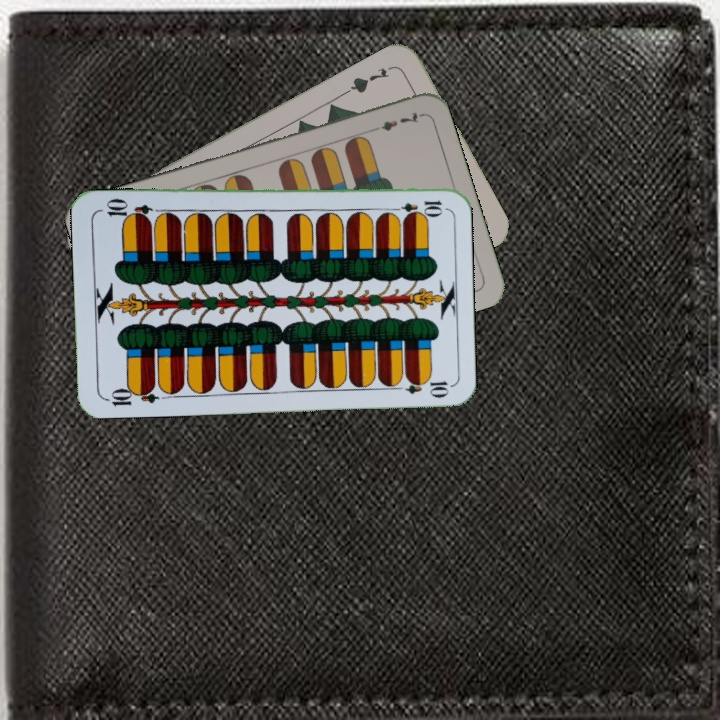E10: (101, 381, 160, 409), (386, 196, 445, 216)
E7: (366, 108, 424, 135)
G7: (342, 61, 397, 96)
